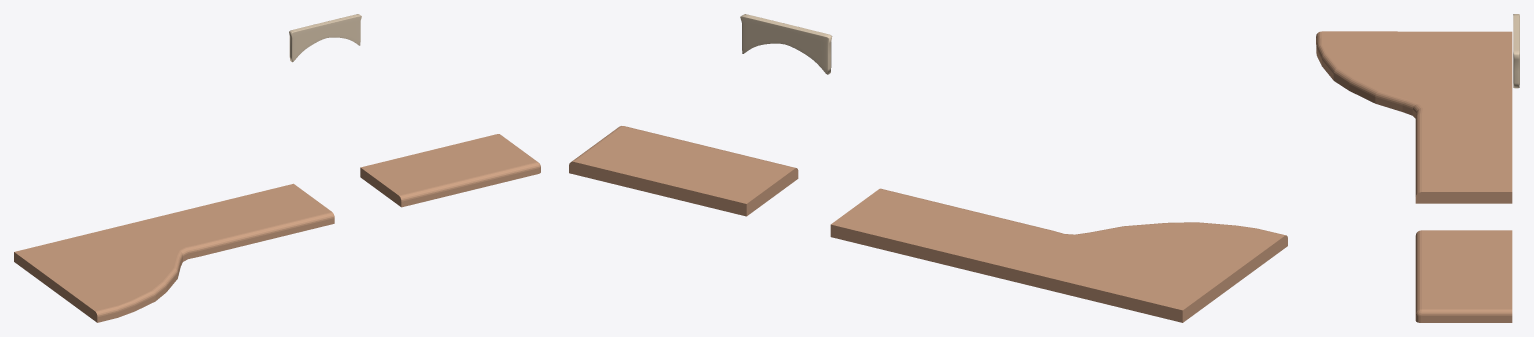
File: Platforrm & Wall top.fbx
3 views of the same model, side by side, from view 1: azimuth 30°, elevation 25°; view 2: azimuth 150°, elevation 25°; view 3: azimuth 270°, elevation 25° (orthographic). The views are drawn at different scales.
Parts seen in each view (by area): view 1: Platfrom1, Platform2, Wall_top; view 2: Platfrom1, Platform2, Wall_top; view 3: Platfrom1, Platform2, Wall_top.
Part boxes in pixels (x1=…): Platfrom1: x1=14, y1=183, x2=334, y2=322; Platform2: x1=360, y1=134, x2=540, y2=207; Wall_top: x1=289, y1=14, x2=361, y2=62; Platfrom1: x1=830, y1=188, x2=1287, y2=322; Platform2: x1=569, y1=126, x2=798, y2=216; Wall_top: x1=740, y1=14, x2=832, y2=74; Platfrom1: x1=1316, y1=31, x2=1512, y2=203; Platform2: x1=1415, y1=230, x2=1512, y2=322; Wall_top: x1=1513, y1=14, x2=1519, y2=88.
Bounding box in the file's own units: 1685 × 532 × 519.
